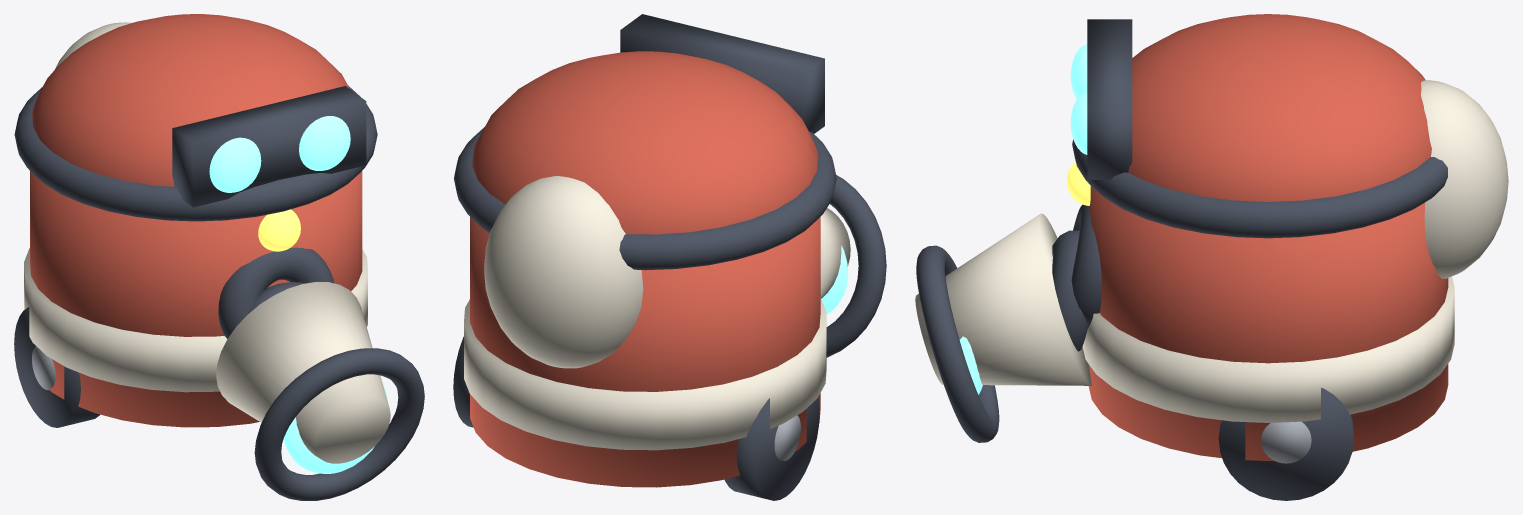
The model's file is dusty_v1.glb.
3 views of the same model, side by side, from view 1: azimuth 30°, elevation 25°; view 2: azimuth 150°, elevation 25°; view 3: azimuth 270°, elevation 25° (orthographic). The views are drawn at different scales.
Parts seen in each view (by area): view 1: body, dome, nozzle, belly_band, visor, collar, nozzle_lip, hose_1, wheel_L, eye_L, eye_R, nose_light (+3 smaller); view 2: dome, body, bag, belly_band, collar, visor, nozzle_lip, wheel_L, nozzle, wheel_R, hub_L, suck_glow; view 3: body, dome, belly_band, nozzle, collar, bag, wheel_R, visor, nozzle_lip, hose_1, hose_2, hub_R (+3 smaller).
Part boxes in pixels (x1,y1,x2,y2): body: [30, 171, 362, 427]; dome: [32, 14, 349, 186]; nozzle: [216, 282, 390, 463]; belly_band: [24, 248, 367, 392]; visor: [172, 86, 366, 207]; collar: [14, 85, 377, 221]; nozzle_lip: [254, 348, 424, 500]; hose_1: [218, 247, 334, 338]; wheel_L: [14, 307, 99, 427]; eye_L: [209, 137, 261, 192]; eye_R: [299, 116, 350, 170]; nose_light: [258, 209, 300, 251]; dome: [472, 51, 818, 234]; body: [470, 217, 820, 487]; bag: [484, 176, 643, 368]; belly_band: [464, 298, 826, 450]; collar: [454, 127, 836, 270]; visor: [620, 14, 824, 133]; nozzle_lip: [826, 175, 886, 357]; wheel_L: [724, 397, 819, 500]; nozzle: [820, 208, 850, 298]; wheel_R: [453, 336, 473, 427]; hub_L: [774, 415, 800, 460]; suck_glow: [821, 245, 848, 314]; body: [1088, 186, 1448, 460]; dome: [1128, 14, 1431, 201]; belly_band: [1082, 276, 1454, 422]; nozzle: [915, 213, 1091, 385]; collar: [1072, 139, 1447, 238]; bag: [1421, 80, 1508, 278]; wheel_R: [1218, 387, 1353, 500]; visor: [1087, 19, 1132, 179]; nozzle_lip: [916, 245, 999, 442]; hose_1: [1071, 204, 1101, 327]; hose_2: [1052, 230, 1088, 351]; hub_R: [1261, 421, 1311, 463].
Bounding box in the file's own units: 0.436 × 0.4831 × 0.6592.
